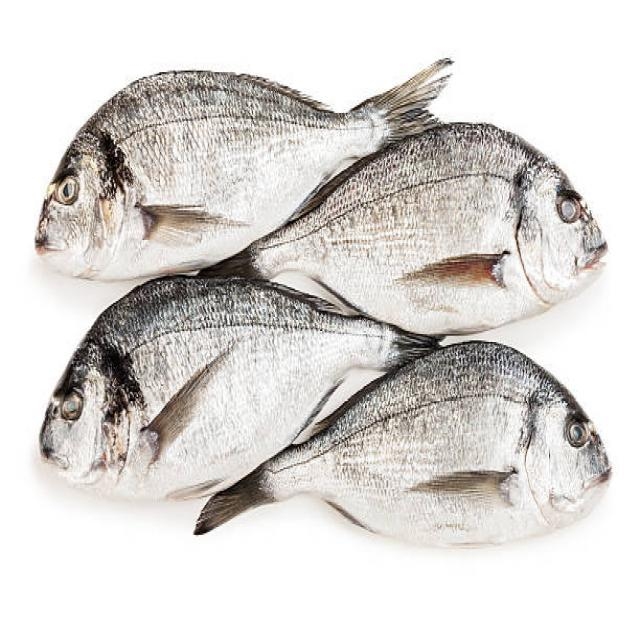Healthy Fish: (32, 58, 609, 558)
